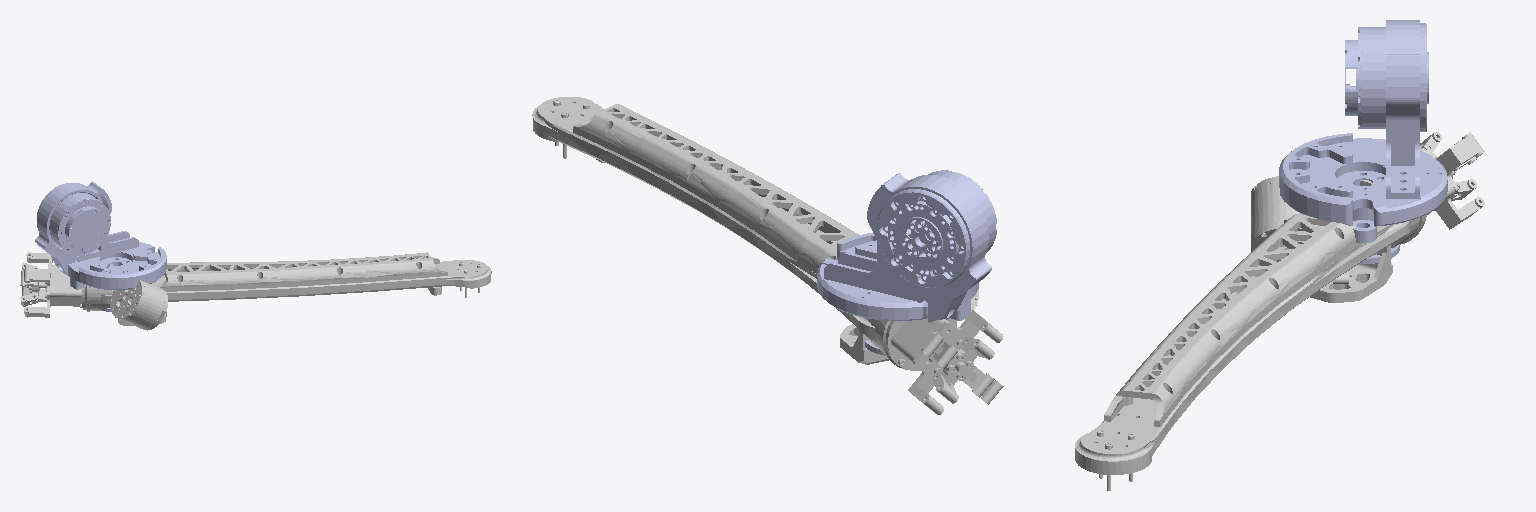
robot.urdf — jaka_c5:
<?xml version="1.0" encoding="utf-8"?>
<robot name="jaka_c5">

  <link name="world" />

  <link name="Link_00">
    <inertial>
      <origin xyz="0.0028167 -0.00019454 0.019544" rpy="0 0 0" />
      <mass value="0.52663" />
      <inertia ixx="0.0006297" ixy="6.7091E-08" ixz="3.4682E-06" iyy="0.00095727" iyz="2.4476E-07" izz="0.0014514" />
    </inertial>
    <visual>
      <origin xyz="0 0 0" rpy="0 0 0" />
      <geometry>
        <mesh filename="package://jaka_c5_description/meshes/jaka_c5_meshes/Link_00.STL" />
      </geometry>
      <material name="">
        <color rgba="0.79216 0.81961 0.93333 1" />
      </material>
    </visual>
    <collision>
      <origin xyz="0 0 0" rpy="0 0 0" />
      <geometry>
        <mesh filename="package://jaka_c5_description/meshes/jaka_c5_meshes/Link_00.STL" />
      </geometry>
    </collision>
  </link>

  <joint name="fixed" type="fixed">
    <origin xyz="0 0 0" rpy="0 0 0" />
    <parent link="world"/>
    <child link="Link_00"/>
  </joint>

  <link name="Link_01">
    <inertial>
      <origin xyz="-2.5186E-07 0.0033226 -0.001509" rpy="0 0 0" />
      <mass value="15.135" />
      <inertia ixx="0.044302" ixy="1.5349E-07" ixz="-6.1966E-07" iyy="0.043091" iyz="1.4326E-05" izz="0.030523" />
    </inertial>
    <visual>
      <origin xyz="0 0 0" rpy="0 0 0" />
      <geometry>
        <mesh filename="package://jaka_c5_description/meshes/jaka_c5_meshes/Link_01.STL" />
      </geometry>
      <material name="">
        <color rgba="0.79216 0.81961 0.93333 1" />
      </material>
    </visual>
    <collision>
      <origin xyz="0 0 0" rpy="0 0 0" />
      <geometry>
        <mesh filename="package://jaka_c5_description/meshes/jaka_c5_meshes/Link_01.STL" />
      </geometry>
    </collision>
  </link>
  <joint name="joint_1" type="revolute">
    <origin xyz="0 -0.00022535 0.12015" rpy="0 0 0" />
    <parent link="Link_00" />
    <child link="Link_01" />
    <axis xyz="0 0 1" />
    <limit lower="-6.28" upper="6.28" effort="2000" velocity="3.14" />
  </joint>

  <link name="Link_02">
    <inertial>
      <origin xyz="0.215 6.4325E-09 -0.14315" rpy="0 0 0" />
      <mass value="45.847" />
      <inertia ixx="0.10377" ixy="-1.3562E-06" ixz="2.544E-07" iyy="1.5964" iyz="2.1509E-08" izz="1.5689" />
    </inertial>
    <visual>
      <origin xyz="0 0 0" rpy="0 0 0" />
      <geometry>
        <mesh filename="package://jaka_c5_description/meshes/jaka_c5_meshes/Link_02.STL" />
      </geometry>
      <material name="">
        <color rgba="0.84706 0.84706 0.84706 1" />
      </material>
    </visual>
    <collision>
      <origin xyz="0 0 0" rpy="0 0 0" />
      <geometry>
        <mesh filename="package://jaka_c5_description/meshes/jaka_c5_meshes/Link_02.STL" />
      </geometry>
    </collision>
  </link>
  <joint name="joint_2" type="revolute">
    <origin xyz="0 0 0" rpy="1.5708 0 0" />
    <parent link="Link_01" />
    <child link="Link_02" />
    <axis xyz="0 0 1" />
    <limit lower="-1.48" upper="4.62" effort="5000" velocity="3.14" />
  </joint>

  <link name="Link_03">
    <inertial>
      <origin xyz="0.19073 -1.1854E-05 -0.010637" rpy="0 0 0" />
      <mass value="18.054" />
      <inertia ixx="0.022003" ixy="-3.4504E-06" ixz="-0.022449" iyy="0.41579" iyz="1.1408E-08" izz="0.41022" />
    </inertial>
    <visual>
      <origin xyz="0 0 0" rpy="0 0 0" />
      <geometry>
        <mesh filename="package://jaka_c5_description/meshes/jaka_c5_meshes/Link_03.STL" />
      </geometry>
      <material name="">
        <color rgba="0.84706 0.84706 0.84706 1" />
      </material>
    </visual>
    <collision>
      <origin xyz="0 0 0" rpy="0 0 0" />
      <geometry>
        <mesh filename="package://jaka_c5_description/meshes/jaka_c5_meshes/Link_03.STL" />
      </geometry>
    </collision>
  </link>
  <joint name="joint_3" type="revolute">
    <origin xyz="0.43 0 0" rpy="0 0 0" />
    <parent link="Link_02" />
    <child link="Link_03" />
    <axis xyz="0 0 1" />
    <limit lower="-3.05" upper="3.05" effort="5000" velocity="3.14" />
  </joint>

  <link name="Link_04">
    <inertial>
      <origin xyz="-2.1463E-06 -0.0059512 0.0026789" rpy="0 0 0" />
      <mass value="5.5377" />
      <inertia ixx="0.0092004" ixy="1.17E-07" ixz="-1.3683E-08" iyy="0.0052083" iyz="-8.5741E-05" izz="0.0089125" />
    </inertial>
    <visual>
      <origin xyz="0 0 0" rpy="0 0 0" />
      <geometry>
        <mesh filename="package://jaka_c5_description/meshes/jaka_c5_meshes/Link_04.STL" />
      </geometry>
      <material name="">
        <color rgba="0.84706 0.84706 0.84706 1" />
      </material>
    </visual>
    <collision>
      <origin xyz="0 0 0" rpy="0 0 0" />
      <geometry>
        <mesh filename="package://jaka_c5_description/meshes/jaka_c5_meshes/Link_04.STL" />
      </geometry>
    </collision>
  </link>
  <joint name="joint_4" type="revolute">
    <origin xyz="0.3685 -1.185E-05 -0.114" rpy="0 0 0" />
    <parent link="Link_03" />
    <child link="Link_04" />
    <axis xyz="0 0 1" />
    <limit lower="-1.48" upper="4.62" effort="2000" velocity="3.14" />
  </joint>

  <link name="Link_05">
    <inertial>
      <origin xyz="-2.0304E-06 -0.0028889 -0.0023424" rpy="0 0 0" />
      <mass value="6.3339" />
      <inertia ixx="0.012993" ixy="-1.0764E-07" ixz="5.8559E-09" iyy="0.0058454" iyz="4.5426E-05" izz="0.0127" />
    </inertial>
    <visual>
      <origin xyz="0 0 0" rpy="0 0 0" />
      <geometry>
        <mesh filename="package://jaka_c5_description/meshes/jaka_c5_meshes/Link_05.STL" />
      </geometry>
      <material name="">
        <color rgba="0.84706 0.84706 0.84706 1" />
      </material>
    </visual>
    <collision>
      <origin xyz="0 0 0" rpy="0 0 0" />
      <geometry>
        <mesh filename="package://jaka_c5_description/meshes/jaka_c5_meshes/Link_05.STL" />
      </geometry>
    </collision>
  </link>
  <joint name="joint_5" type="revolute">
    <origin xyz="0 -0.1135 0" rpy="1.5708 0 0" />
    <parent link="Link_04" />
    <child link="Link_05" />
    <axis xyz="0 0 1" />
    <limit lower="-6.28" upper="6.28" effort="3000" velocity="3.14" />
  </joint>

  <link name="Link_06">
    <inertial>
      <origin xyz="2.7652E-05 -1.3485E-05 -0.021245" rpy="0 0 0" />
      <mass value="1.4169" />
      <inertia ixx="0.00071853" ixy="-6.9778E-07" ixz="-6.378E-07" iyy="0.00072375" iyz="8.3072E-07" izz="0.0011337" />
    </inertial>
    <visual>
      <origin xyz="0 0 0" rpy="0 0 0" />
      <geometry>
        <mesh filename="package://jaka_c5_description/meshes/jaka_c5_meshes/Link_06.STL" />
      </geometry>
      <material name="">
        <color rgba="0.84706 0.84706 0.84706 1" />
      </material>
    </visual>
    <collision>
      <origin xyz="0 0 0" rpy="0 0 0" />
      <geometry>
        <mesh filename="package://jaka_c5_description/meshes/jaka_c5_meshes/Link_06.STL" />
      </geometry>
    </collision>
  </link>
  <joint name="joint_6" type="revolute">
    <origin xyz="0 0.107 0" rpy="-1.5708 0 0" />
    <parent link="Link_05" />
    <child link="Link_06" />
    <axis xyz="0 0 1" />
    <limit lower="-6.28" upper="6.28" effort="1000" velocity="3.14" />
  </joint>

</robot>

--- What the picture shows (computed from the rendered views, not written in the file) ---
Views: 3 orthographic renders of the robot side by side, from view 1: azimuth 30°, elevation 25°; view 2: azimuth 150°, elevation 25°; view 3: azimuth 270°, elevation 25°.
Model jaka_c5 with 8 links and 7 joints (6 revolute, 1 fixed), rooted at world, posed every joint at zero.
Links seen in each view (by area): view 1: Link_02, Link_01, Link_06, Link_05; view 2: Link_01, Link_02, Link_06; view 3: Link_02, Link_01, Link_06, Link_05.
Link boxes in pixels (<box>): Link_02: <box>101,252,491,304</box>; Link_01: <box>35,181,166,311</box>; Link_06: <box>20,252,166,325</box>; Link_05: <box>110,280,167,330</box>; Link_01: <box>817,170,996,355</box>; Link_02: <box>532,97,876,340</box>; Link_06: <box>840,310,1003,414</box>; Link_02: <box>1075,214,1410,490</box>; Link_01: <box>1279,20,1447,263</box>; Link_06: <box>1310,132,1484,302</box>; Link_05: <box>1251,176,1348,283</box>.
Size in the robot's own frame: 541 by 303 by 177 metres.
Meshes: 7 distinct files referenced, 4 mesh visuals loaded (4 binary STL); not drawn: 3 (reference not matched to a file when rendering).
